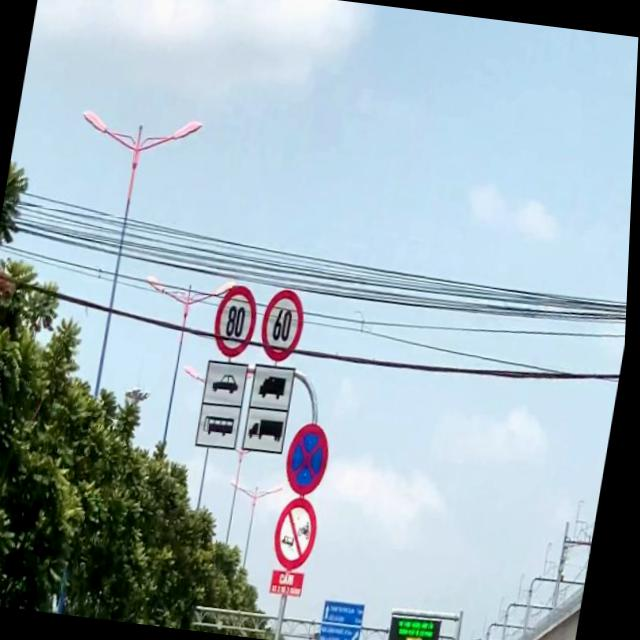Cam dung xe va do xe: (284, 420, 338, 499)
Toc do toi da cho phep: (258, 283, 313, 365), (210, 280, 265, 360)
